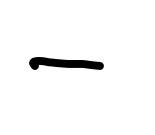minus: (28, 56, 104, 73)
